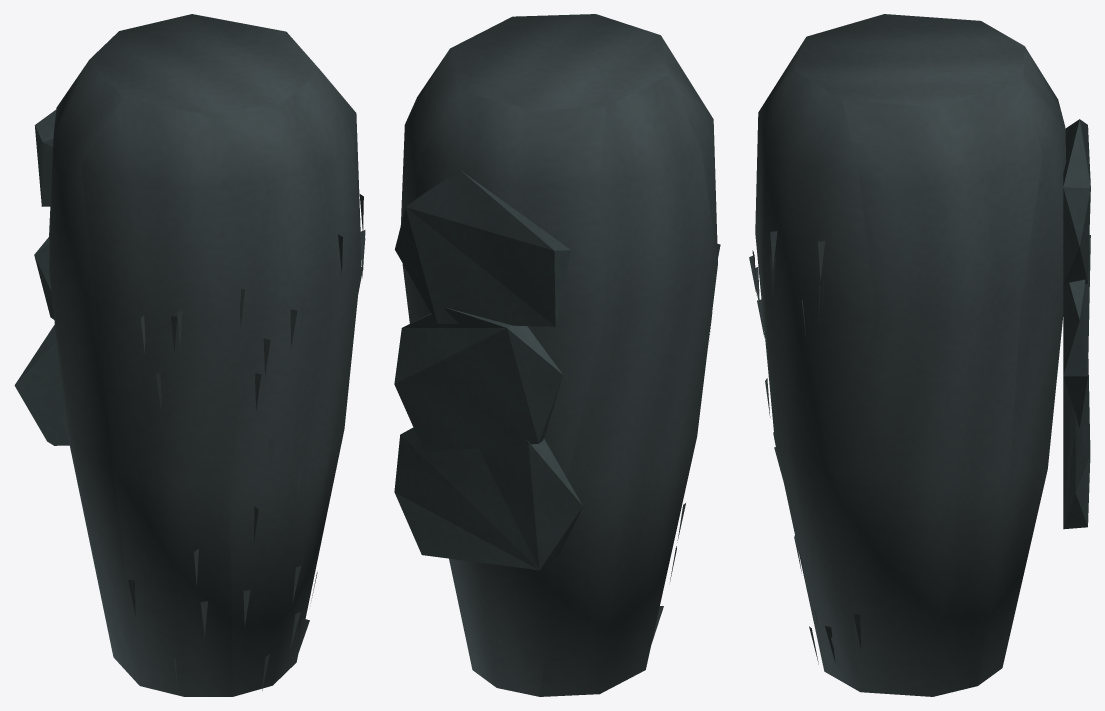
The model's file is thigh_r_lod2.glb.
3 views of the same model, side by side, from view 1: azimuth 30°, elevation 25°; view 2: azimuth 150°, elevation 25°; view 3: azimuth 270°, elevation 25° (orthographic).
Parts seen in each view (by area): view 1: dormin_thigh_r_LOD2; view 2: dormin_thigh_r_LOD2; view 3: dormin_thigh_r_LOD2.
Boxes of the visible parts, box(x1,y1,x2,y2) form: dormin_thigh_r_LOD2: box(14, 14, 365, 696); dormin_thigh_r_LOD2: box(394, 14, 720, 696); dormin_thigh_r_LOD2: box(749, 14, 1090, 696).
Size of the model in its own units: 1.87 by 3.87 by 2.
2 materials, 2 textured.
